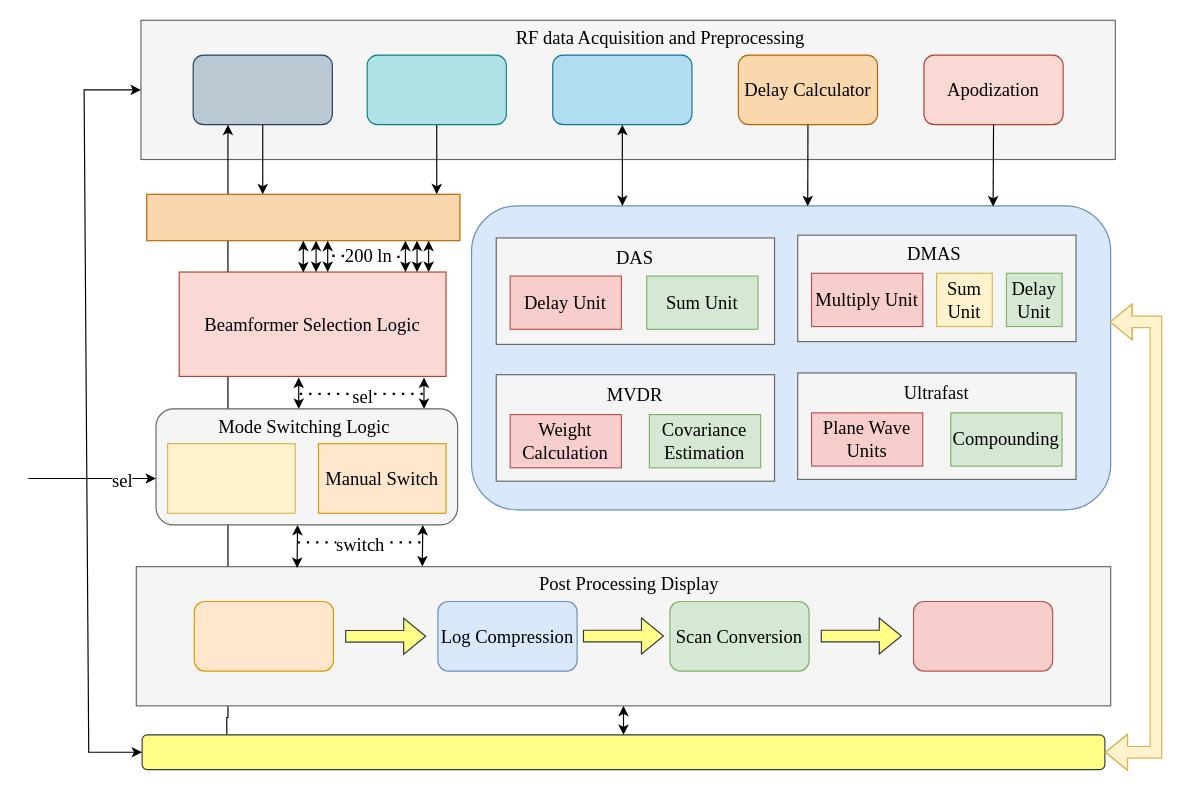
Image size: 1182x791. Some labels were removed from this diagram. Each missing label, with the centre of its shape:
"ADC Interface" belongs at point 436,89.
"Auto Switch" belongs at point 230,478.
"Display" belongs at point 982,635.
"Envelope Detection" belongs at point 263,635.
"Ping-Pong Buffer" belongs at point 622,89.
"System Control Interface" belongs at point 623,752.
"Tissue Characterization Module" belongs at point 303,217.
"Transducer Array Interface" belongs at point 262,89.
